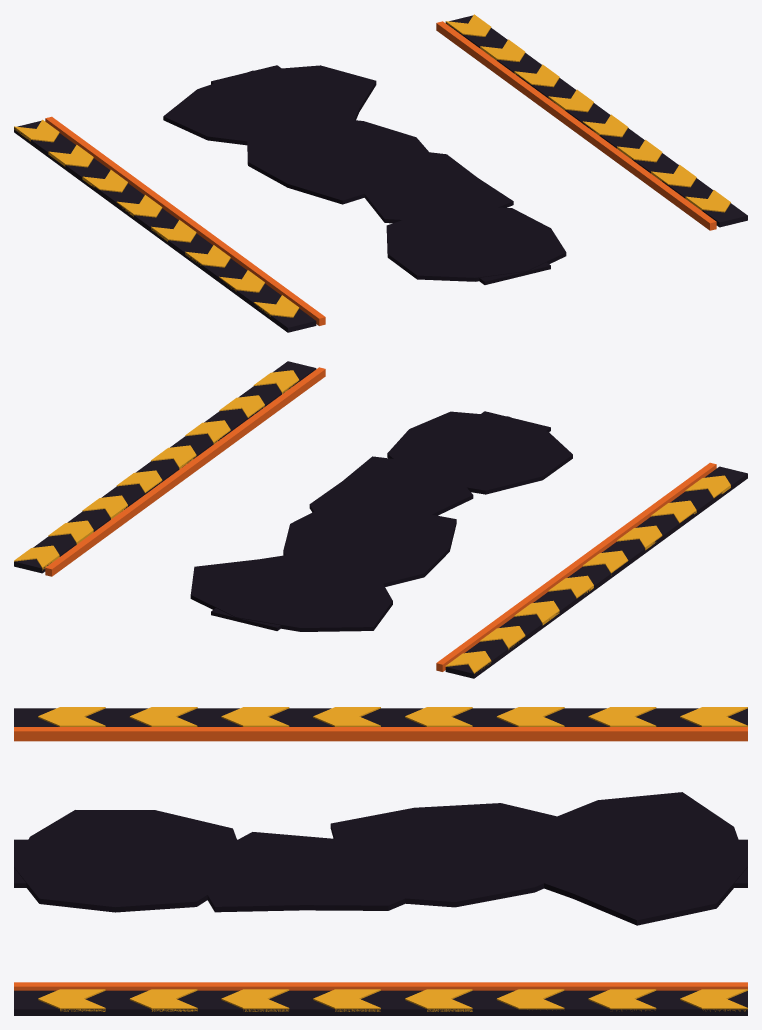
File: trap_flame_lane__lower.glb
The picture shows the model from 3 angles, top to bottom: view 1: azimuth 30°, elevation 25°; view 2: azimuth 150°, elevation 25°; view 3: azimuth 270°, elevation 25°; orthographic projection. The views are drawn at different scales.
Parts seen in each view (by area): view 1: Lane; view 2: Lane; view 3: Lane.
Boxes of the visible parts, bbox=[...] form: Lane: bbox=[14, 14, 747, 332]; Lane: bbox=[14, 361, 747, 678]; Lane: bbox=[14, 707, 747, 1015].
Bounding box in the file's own units: 0.97 × 0.015 × 1.
